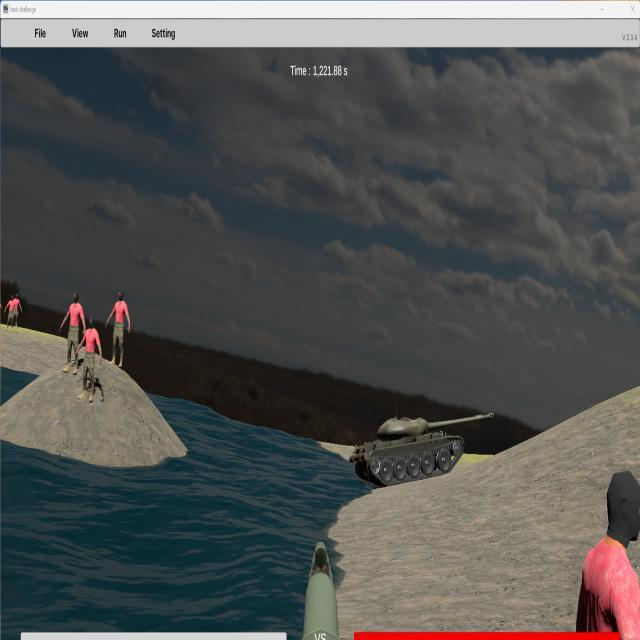Human: (75, 316, 102, 404), (60, 290, 85, 375), (105, 290, 131, 367)
Tank: (348, 411, 496, 490)
